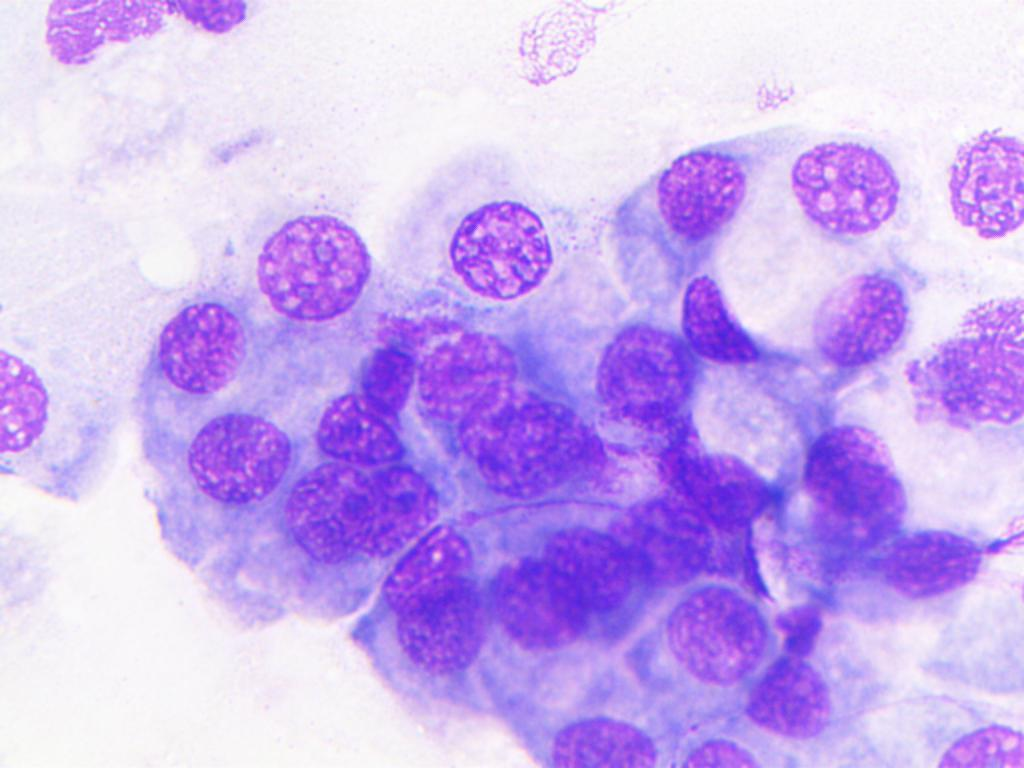epithelial: (610, 122, 778, 289), (853, 508, 982, 636), (789, 123, 906, 242), (441, 189, 558, 308), (253, 203, 370, 322), (794, 428, 903, 543), (800, 258, 914, 366), (935, 114, 1024, 252), (286, 458, 383, 582), (147, 295, 259, 400), (585, 319, 697, 424), (181, 404, 293, 509), (663, 583, 775, 688), (416, 328, 515, 434), (488, 423, 617, 501), (490, 552, 588, 653), (671, 436, 773, 524), (668, 266, 760, 362), (394, 583, 484, 673), (620, 496, 714, 573), (364, 461, 444, 551), (388, 517, 479, 592), (313, 392, 411, 461), (548, 536, 639, 606), (548, 720, 664, 768)
